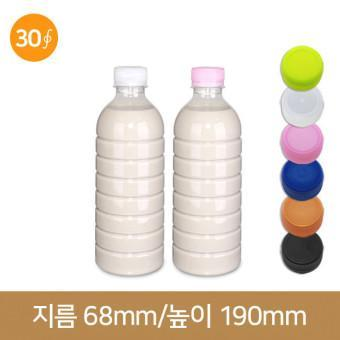bottle: (168, 68, 239, 276), (96, 68, 164, 276)
